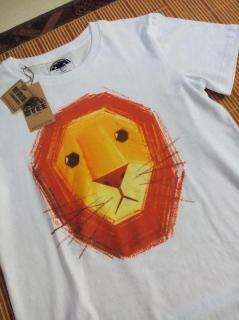short sleeve top: (0, 12, 239, 319)
